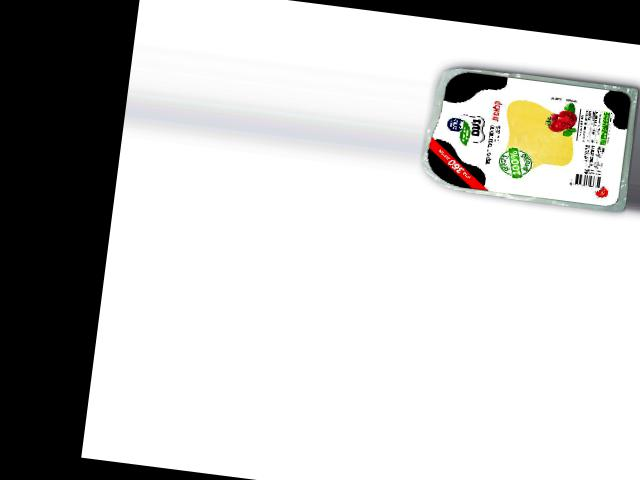cheese: (416, 62, 640, 213)
